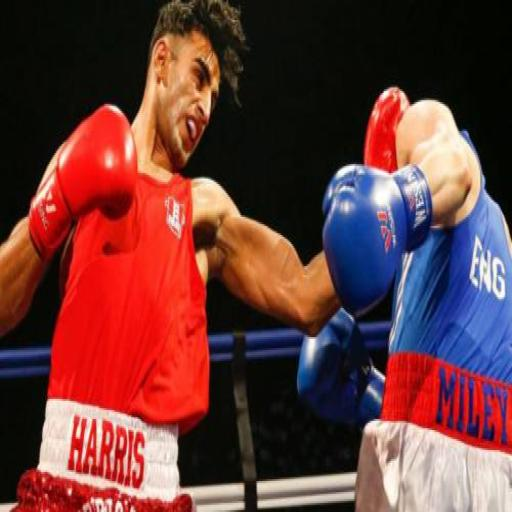boxing: (1, 0, 429, 510), (299, 63, 512, 512)
